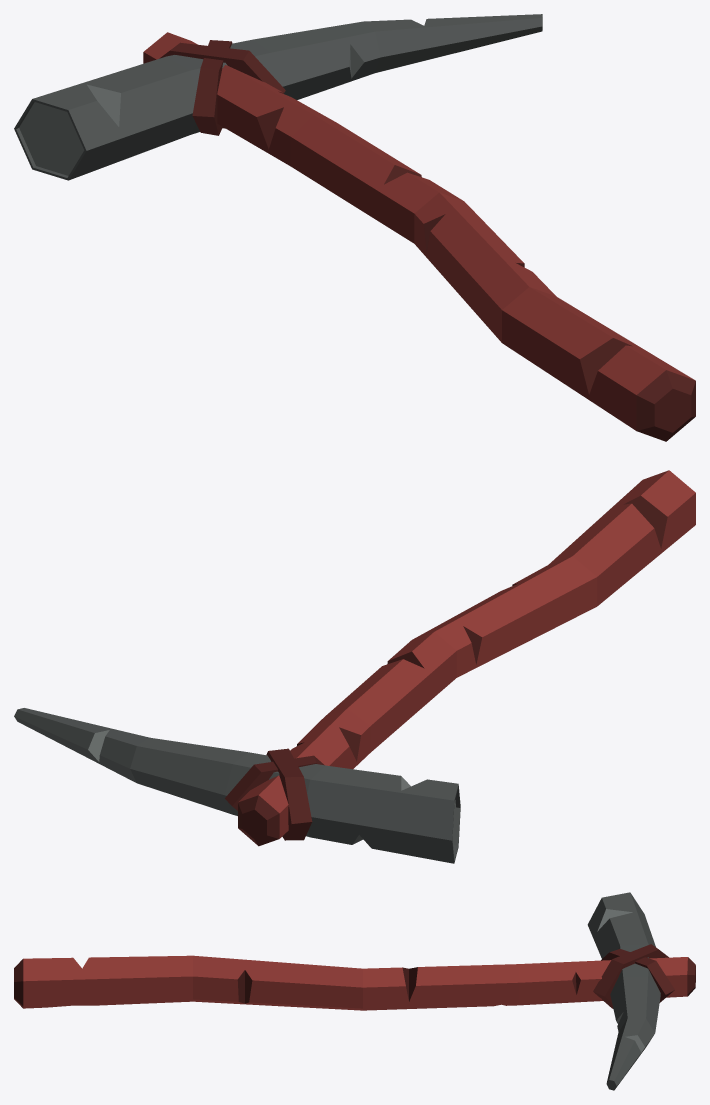
File: Pickaxe_4_Red.fbx
The picture shows the model from 3 angles, top to bottom: view 1: azimuth 30°, elevation 25°; view 2: azimuth 150°, elevation 25°; view 3: azimuth 270°, elevation 25°; orthographic projection. The views are drawn at different scales.
Visible parts, largest first — view 1: Pickaxe_4_Red_Part_1, Pickaxe_4_Red_Part_3, Pickaxe_4_Red_Part_2, Pickaxe_4_Red_Part_4; view 2: Pickaxe_4_Red_Part_1, Pickaxe_4_Red_Part_3, Pickaxe_4_Red_Part_2; view 3: Pickaxe_4_Red_Part_1, Pickaxe_4_Red_Part_3, Pickaxe_4_Red_Part_2, Pickaxe_4_Red_Part_4.
Boxes of the visible parts, x1=… form: Pickaxe_4_Red_Part_1: x1=143, y1=32, x2=694, y2=430; Pickaxe_4_Red_Part_3: x1=14, y1=14, x2=542, y2=180; Pickaxe_4_Red_Part_2: x1=159, y1=40, x2=695, y2=441; Pickaxe_4_Red_Part_4: x1=19, y1=44, x2=364, y2=175; Pickaxe_4_Red_Part_1: x1=238, y1=470, x2=695, y2=838; Pickaxe_4_Red_Part_3: x1=14, y1=708, x2=460, y2=863; Pickaxe_4_Red_Part_2: x1=225, y1=495, x2=667, y2=846; Pickaxe_4_Red_Part_1: x1=23, y1=955, x2=687, y2=1010; Pickaxe_4_Red_Part_3: x1=587, y1=892, x2=660, y2=1090; Pickaxe_4_Red_Part_2: x1=14, y1=944, x2=695, y2=1008; Pickaxe_4_Red_Part_4: x1=597, y1=909, x2=644, y2=1055.
Bounding box in the file's own units: 29.63 × 4 × 49.51.
